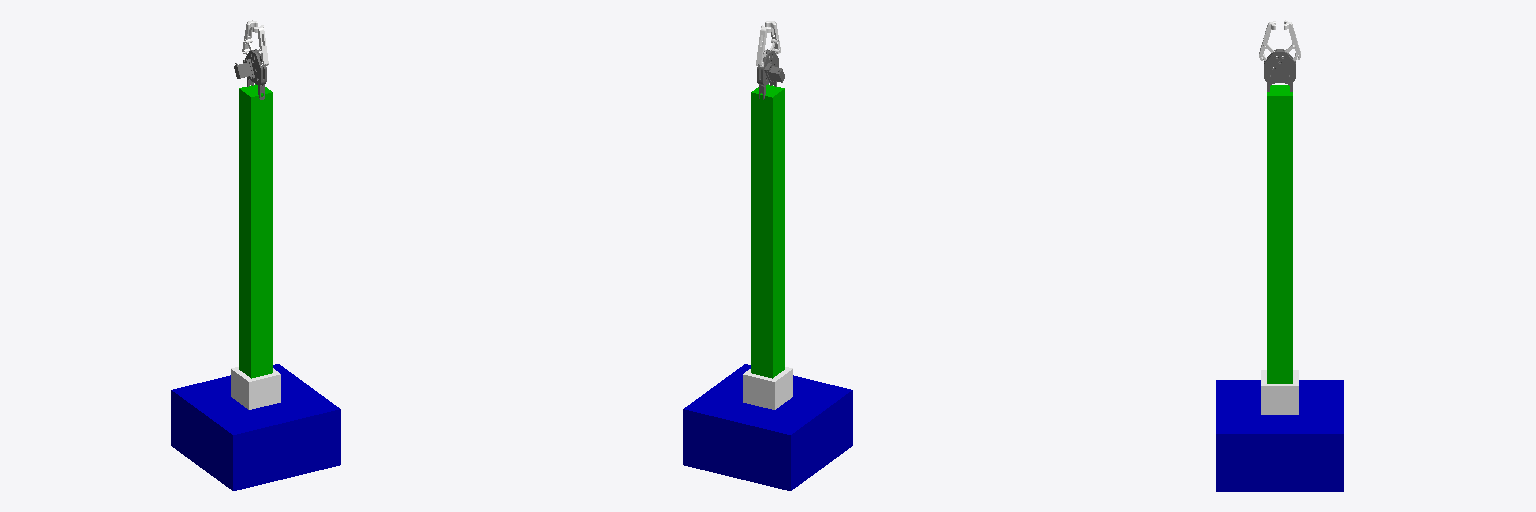
robot.urdf — mi_brazo_4gdl:
<?xml version="1.0"?>
<robot name="mi_brazo_4gdl">

  <link name="base_link">
    <visual>
      <geometry>
        <box size="0.2 0.2 0.1"/>
      </geometry>
      <material name="blue">
        <color rgba="0 0 0.8 1"/>
      </material>
    </visual>
    <collision>
      <geometry>
        <box size="0.2 0.2 0.1"/>
      </geometry>
    </collision>
  </link>

  <joint name="joint_1" type="revolute">
    <parent link="base_link"/>
    <child link="link_1"/>
    <origin xyz="0 0 0.05" rpy="0 0 0"/>
    <axis xyz="0 0 1"/> <limit effort="10.0" lower="-3.1416" upper="3.1416" velocity="1.0"/>
  </joint>

  <link name="link_1">
    <visual>
      <origin xyz="0 0 0.025" rpy="0 0 0"/>
      <geometry>
        <box size="0.06 0.06 0.05"/>
      </geometry>
      <material name="white">
        <color rgba="1 1 1 1"/>
      </material>
    </visual>
    <collision>
      <origin xyz="0 0 0.025" rpy="0 0 0"/>
      <geometry>
        <box size="0.06 0.06 0.05"/>
      </geometry>
    </collision>
    <inertial>
      <origin xyz="0 0 0" rpy="0 0 0"/>
      <mass value="0.1"/>
      <inertia ixx="0.001" ixy="0.0" ixz="0.0" iyy="0.001" iyz="0.0" izz="0.001"/>
    </inertial>
  </link>

  <joint name="joint_2" type="revolute">
    <parent link="link_1"/>
    <child link="link_2"/>
    <origin xyz="0 0 0.05" rpy="0 0 0"/> 
    <axis xyz="0 1 0"/> <limit effort="10.0" lower="-1.5708" upper="1.5708" velocity="1.0"/>
  </joint>

  <link name="link_2">
    <visual>
      <origin xyz="0 0 0.15" rpy="0 0 0"/>
      <geometry>
        <box size="0.04 0.04 0.3"/> </geometry>
      <material name="green">
        <color rgba="0 0.8 0 1"/>
      </material>
    </visual>
    <collision>
      <origin xyz="0 0 0.15" rpy="0 0 0"/>
      <geometry>
        <box size="0.04 0.04 0.3"/>
      </geometry>
    </collision>
    <inertial>
      <origin xyz="0 0 0" rpy="0 0 0"/>
      <mass value="0.1"/>
      <inertia ixx="0.001" ixy="0.0" ixz="0.0" iyy="0.001" iyz="0.0" izz="0.001"/>
    </inertial>
  </link>

  <joint name="joint_3" type="revolute">
    <parent link="link_2"/>
    <child link="link_3"/>
    <origin xyz="0 0 0.3" rpy="0 0 0"/> 
    <axis xyz="0 1 0"/> <limit effort="10.0" lower="-1.5708" upper="1.5708" velocity="1.0"/>
  </joint>

  <link name="link_3">
    <visual>
      <origin xyz="0 0 0.1" rpy="0 0 0"/>
      <geometry>
        <box size="0.04 0.04 0.2"/> </geometry>
      <material name="green">
        <color rgba="0 0.8 0 1"/>
      </material>
    </visual>
    <collision>
      <origin xyz="0 0 0.1" rpy="0 0 0"/>
      <geometry>
        <box size="0.04 0.04 0.2"/>
      </geometry>
    </collision>
    <inertial>
      <origin xyz="0 0 0" rpy="0 0 0"/>
      <mass value="0.1"/>
      <inertia ixx="0.001" ixy="0.0" ixz="0.0" iyy="0.001" iyz="0.0" izz="0.001"/>
    </inertial>
  </link>

  <joint name="joint_4" type="revolute">
    <parent link="link_3"/>
    <child link="link_4"/>
    <origin xyz="0 0 0.2" rpy="0 0 0"/> 
    <axis xyz="0 1 0"/> <limit effort="10.0" lower="-1.5708" upper="1.5708" velocity="1.0"/>
  </joint>

  <link name="link_4">
    <visual>
      <origin xyz="0.0 0.0 0.0" rpy="0.0 0.0 0.0"/>
      <geometry>
        <mesh filename="package://my_arm_description/meshes/gripper_base.stl" scale="0.001 0.001 0.001"/>
      </geometry>
      <material name="grey">
        <color rgba="0.5 0.5 0.5 1.0"/>
      </material>
    </visual>
    <collision>
      <origin xyz="0.0 0.0 0.0" rpy="0.0 0.0 0.0"/>
      <geometry>
        <mesh filename="package://my_arm_description/meshes/gripper_base.stl" scale="0.001 0.001 0.001"/>
      </geometry>
    </collision>
    <inertial>
      <origin xyz="-0.005295 0.0023 0.035055" rpy="0 0 0"/>
      <mass value="0.198702"/>
      <inertia ixx="78655.266e-9" ixy="5398.544e-9"  ixz="1586.829e-9" 
                               iyy="64281.36e-9"  iyz="-2363.624e-9" 
                                               izz="50217.521e-9"/>
    </inertial>
  </link>

  <joint name="left_finger_joint" type="revolute">
    <parent link="link_4"/>
    <child link="left_finger"/>
    <axis xyz="1 0 0"/> <origin xyz="0.0 -0.010 0.041" rpy="0 0 0"/> 
    <limit effort="5.0" lower="0.0" upper="0.52" velocity="1.0"/>
  </joint>

  <link name="left_finger">
    <visual>
      <origin xyz="0.0 0.0 0.0" rpy="0.0 0.0 0.0"/>
      <geometry>
        <mesh filename="package://my_arm_description/meshes/left_finger.stl" scale="0.001 0.001 0.001"/>
      </geometry>
      <material name="white"/>
    </visual>
    <collision>
      <origin xyz="0.0 0.0 0.0" rpy="0.0 0.0 0.0"/>
      <geometry>
        <mesh filename="package://my_arm_description/meshes/left_finger.stl" scale="0.001 0.001 0.001"/>
      </geometry>
    </collision>
    <inertial>
      <origin xyz="0.005e-3 -8.31e-3 37.327e-3" rpy="0 0 0"/>
      <mass value="45.765e-3"/>
      <inertia ixx="31433.711e-9" ixy="1.6e-9"  ixz="2.299e-9" 
                               iyy="28962.501e-9"  iyz="-334.365e-9" 
                                               izz="3330.424e-9"/>
    </inertial>
  </link>

  <joint name="right_finger_joint" type="revolute">
    <parent link="link_4"/>
    <child link="right_finger"/>
    <axis xyz="1 0 0"/>
    <origin xyz="0.0 0.010 0.041" rpy="0 0 0"/> 
    <limit effort="5.0" lower="-0.52" upper="0.0" velocity="1.0"/>
    <mimic joint="left_finger_joint" multiplier="-1.0" offset="0.0"/>
  </joint>

  <link name="right_finger">
    <visual>
      <origin xyz="0.0 0.0 0.0" rpy="0.0 0.0 0.0"/>
      <geometry>
        <mesh filename="package://my_arm_description/meshes/right_finger.stl" scale="0.001 0.001 0.001"/>
      </geometry>
      <material name="white"/>
    </visual>
    <collision>
      <origin xyz="0.0 0.0 0.0" rpy="0.0 0.0 0.0"/>
      <geometry>
        <mesh filename="package://my_arm_description/meshes/right_finger.stl" scale="0.001 0.001 0.001"/>
      </geometry>
    </collision>
    <inertial>
      <origin xyz="-1.49e-3 8.338e-3 37.456e-3" rpy="0 0 0"/>
      <mass value="45.606e-3"/>
      <inertia ixx="31197.289e-9" ixy="7.20e-9"  ixz="22.872e-9" 
                               iyy="28741.174e-9"  iyz="376.898e-9" 
                                               izz="3317.449e-9"/>
    </inertial>
  </link>

  </robot>

--- Render facts (derived) ---
Views: 3 orthographic renders of the robot side by side, from view 1: azimuth 30°, elevation 25°; view 2: azimuth 150°, elevation 25°; view 3: azimuth 270°, elevation 25°.
Robot: mi_brazo_4gdl — 7 links, 6 joints (6 revolute); root link base_link; default pose: all joints at 0.
Visible links, largest first — view 1: base_link, link_2, link_3, link_1, link_4; view 2: base_link, link_2, link_3, link_1, link_4; view 3: base_link, link_2, link_3, link_1, link_4.
Boxes of the visible links, x1,y1,x2,y2 form: base_link: [171, 364, 340, 490]; link_2: [239, 201, 272, 378]; link_3: [239, 84, 272, 209]; link_1: [231, 367, 280, 409]; link_4: [234, 49, 266, 99]; base_link: [683, 364, 852, 490]; link_2: [751, 201, 784, 378]; link_3: [751, 84, 784, 209]; link_1: [743, 367, 792, 409]; link_4: [757, 49, 784, 99]; base_link: [1216, 380, 1343, 491]; link_2: [1267, 211, 1292, 383]; link_3: [1267, 85, 1292, 210]; link_1: [1261, 370, 1298, 414]; link_4: [1264, 49, 1295, 91].
Bounding box of the posed robot: 0.2 × 0.2 × 0.7671 m (x, y, z).
3 mesh visuals loaded from 3 distinct referenced files (3 binary STL).
